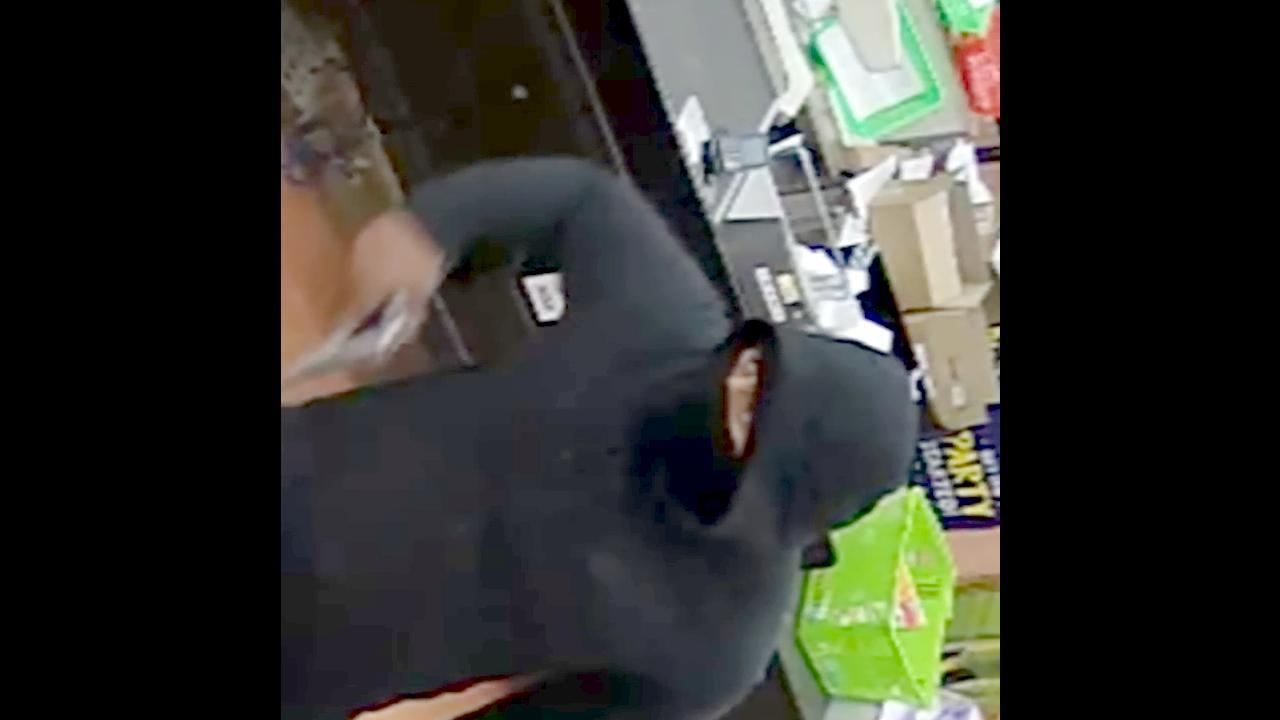gun: (280, 270, 438, 420)
